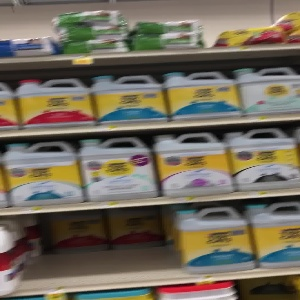void: (15, 212, 185, 284)
